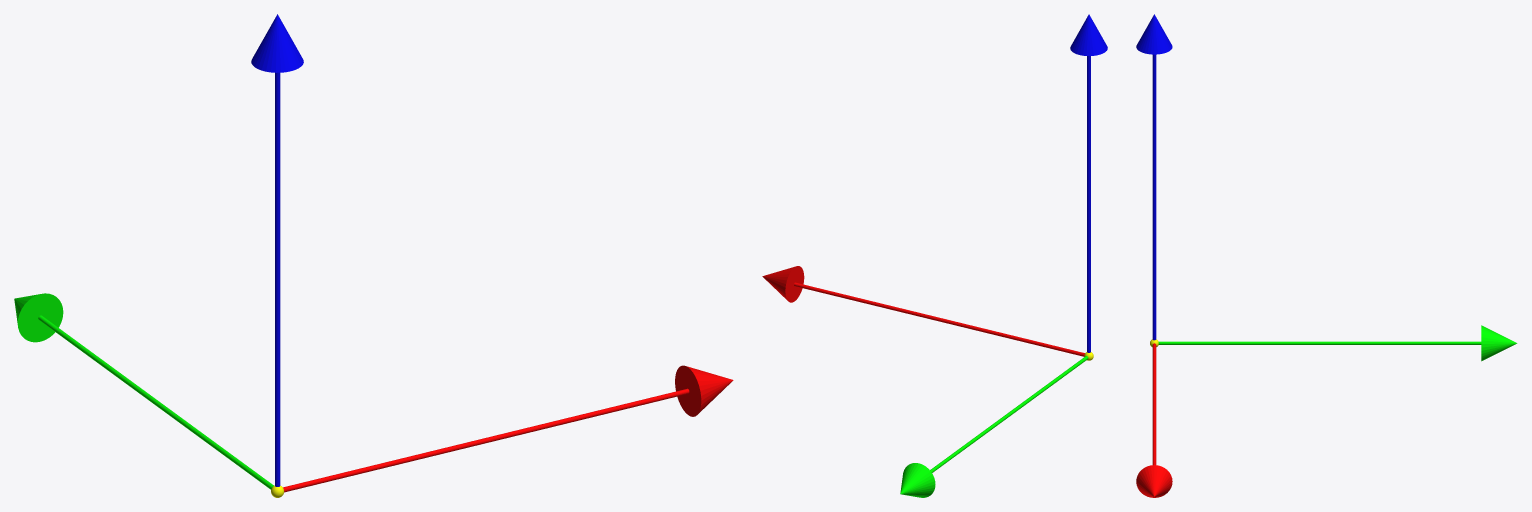
Rendered from axis_helper.glb.
3 renders of one model, left to right at view 1: azimuth 30°, elevation 25°; view 2: azimuth 150°, elevation 25°; view 3: azimuth 270°, elevation 25°, orthographic. The views are drawn at different scales.
Visible parts, largest first — view 1: ArrowZ, ArrowX, ArrowY; view 2: ArrowX, ArrowZ, ArrowY; view 3: ArrowZ, ArrowY, ArrowX.
Part boxes in pixels (x1,y1,x2,y2): ArrowZ: (251,14,303,486); ArrowX: (283,365,733,492); ArrowY: (14,293,273,489); ArrowX: (762,266,1084,356); ArrowZ: (1070,14,1107,352); ArrowY: (900,356,1088,497); ArrowZ: (1136,14,1172,340); ArrowY: (1158,325,1517,361); ArrowX: (1136,343,1172,497).
Size of the model in its own units: 1.05 by 1.05 by 1.05.
